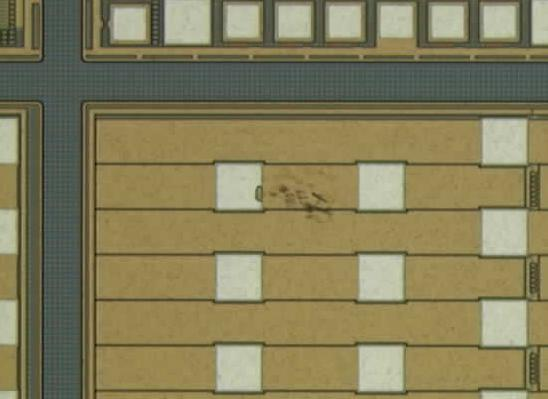PO CONTAMINATION: (263, 165, 342, 226)
